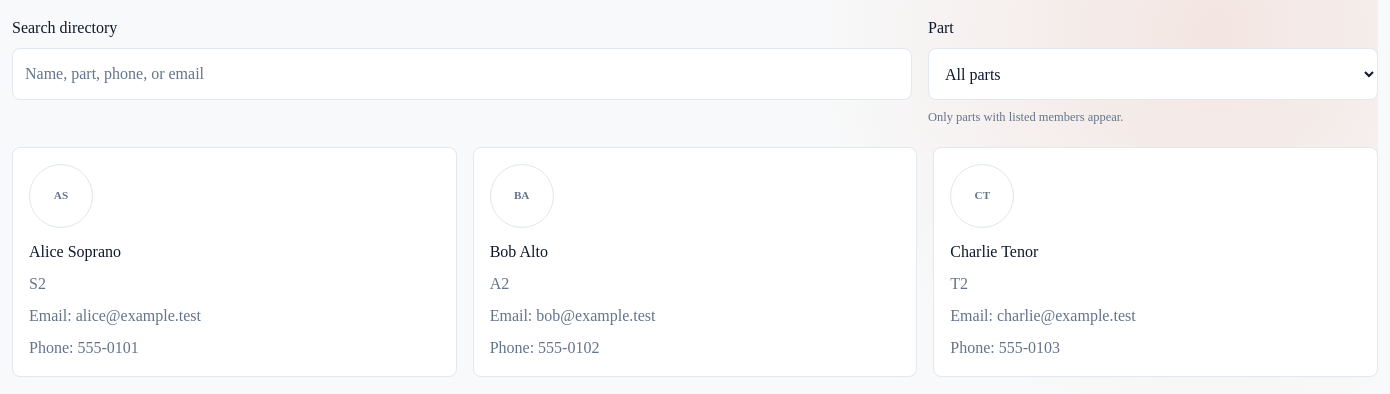
MemberProfileDirectory part filter coverage and privacy (#197) › filters directory profiles when a voice part is selected
expect the heading "Alice Soprano" is shown: met, box [29, 243, 121, 260]
expect the heading "Bob Alto" is shown: met, box [490, 243, 548, 260]
Select "A2" in the dropdown labelled "Part Only parts with listed members appear." at [1153, 74], box [928, 48, 1378, 100]
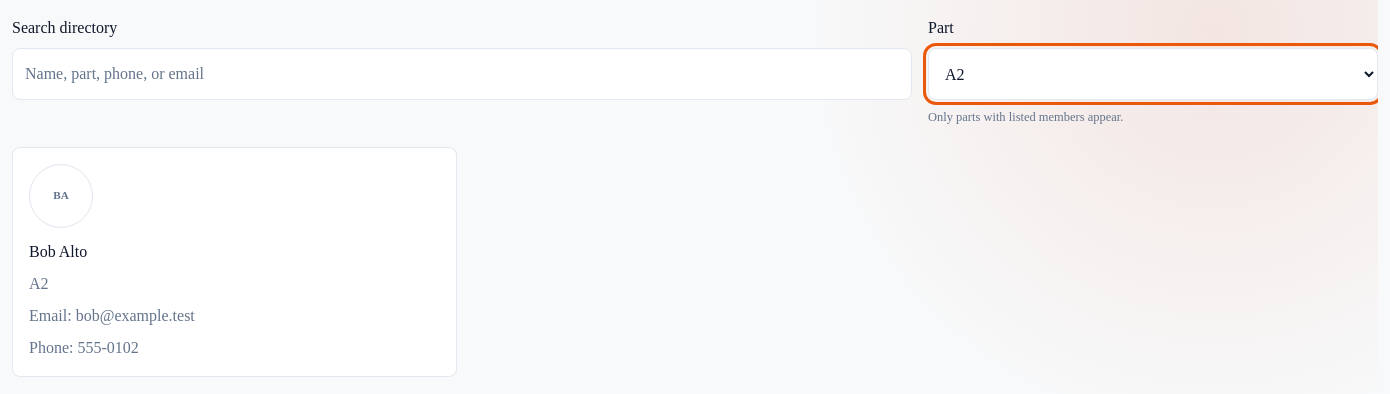
expect the heading "Bob Alto" is shown: met, box [29, 243, 87, 260]
expect the heading "Alice Soprano" is gone: met
expect the heading "Charlie Tenor" is gone: met
